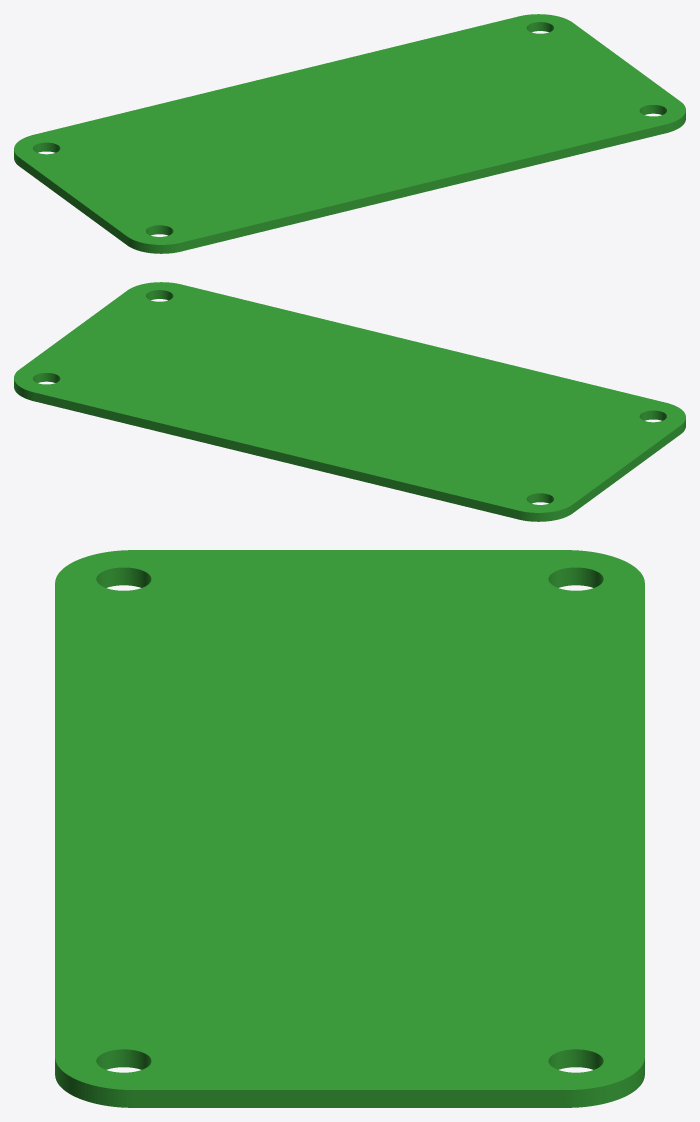
3 renders of one model, top to bottom at view 1: azimuth 30°, elevation 25°; view 2: azimuth 150°, elevation 25°; view 3: azimuth 270°, elevation 25°, orthographic. The views are drawn at different scales.
Visible parts, largest first — view 1: out; view 2: out; view 3: out.
Part boxes in pixels (x1,y1,x2,y2): out: [14, 14, 685, 253]; out: [14, 282, 685, 521]; out: [55, 550, 644, 1107].
Bounding box in the file's own units: 0.065 × 0.001 × 0.03.
